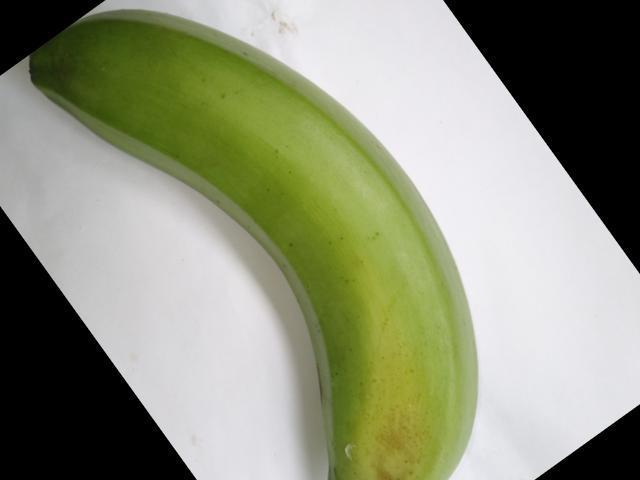freshunripe: (25, 8, 516, 479)
